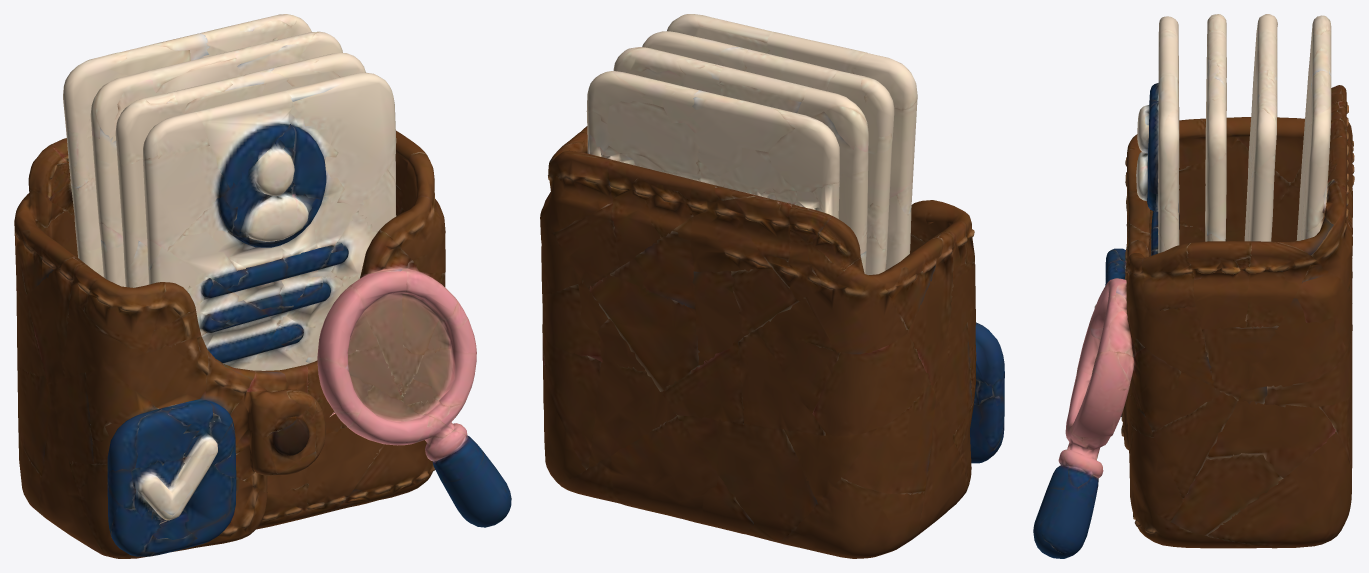
Rendered from zalent_icon_3d.glb.
The picture shows the model from 3 angles, left to right: view 1: azimuth 30°, elevation 25°; view 2: azimuth 150°, elevation 25°; view 3: azimuth 270°, elevation 25°; orthographic projection. The views are drawn at different scales.
Parts seen in each view (by area): view 1: mesh_node; view 2: mesh_node; view 3: mesh_node.
Boxes of the visible parts, x1,y1,x2,y2 form: mesh_node: [14, 14, 511, 558]; mesh_node: [540, 14, 1004, 558]; mesh_node: [1033, 14, 1354, 558].
Size of the model in its own units: 1.7 by 1.9 by 1.32.
Materials: 1 (1 with a texture image).
